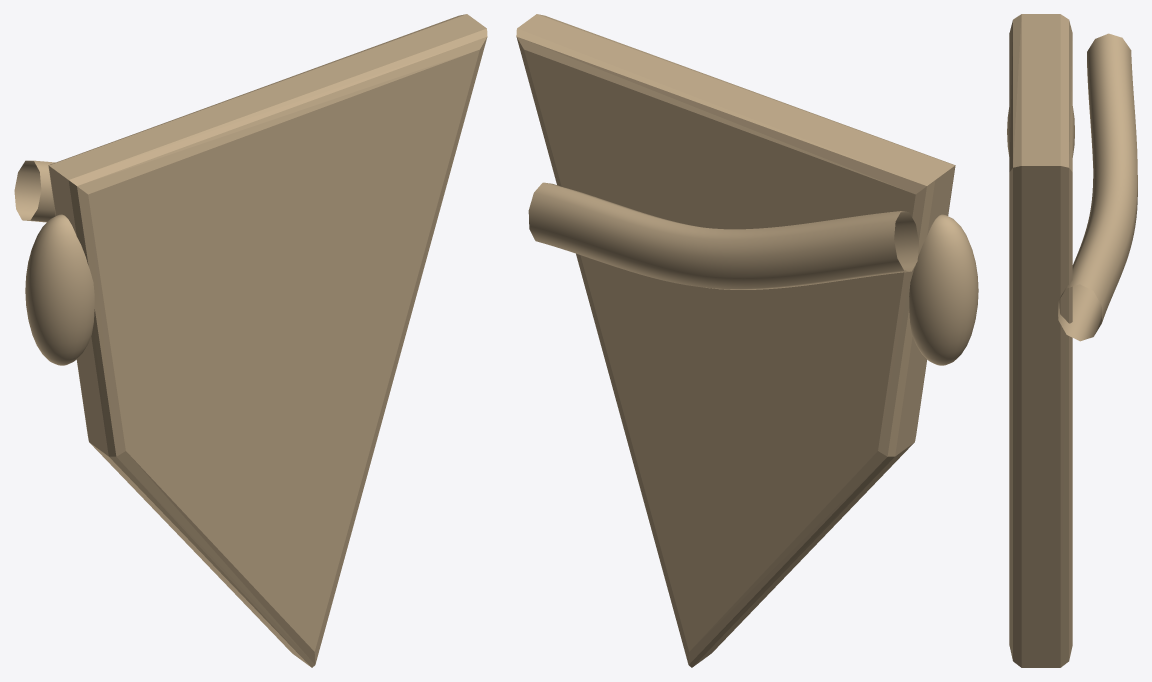
File: right_scapula.glb
3 renders of one model, left to right at view 1: azimuth 30°, elevation 25°; view 2: azimuth 150°, elevation 25°; view 3: azimuth 270°, elevation 25°, orthographic.
Parts seen in each view (by area): view 1: right_scapula:blade, right_scapula:glenoid, right_scapula:spine; view 2: right_scapula:blade, right_scapula:spine, right_scapula:glenoid; view 3: right_scapula:blade, right_scapula:spine, right_scapula:glenoid.
Part boxes in pixels (box(x1,y1,x2,y2)): right_scapula:blade: box(48, 14, 487, 667); right_scapula:glenoid: box(25, 214, 94, 365); right_scapula:spine: box(14, 160, 55, 222); right_scapula:blade: box(516, 14, 955, 667); right_scapula:spine: box(528, 182, 918, 289); right_scapula:glenoid: box(909, 214, 978, 365); right_scapula:blade: box(1009, 14, 1072, 667); right_scapula:spine: box(1058, 33, 1137, 341); right_scapula:glenoid: box(1007, 106, 1074, 157).
Size of the model in its own units: 0.4154 by 0.5293 by 0.1072.
